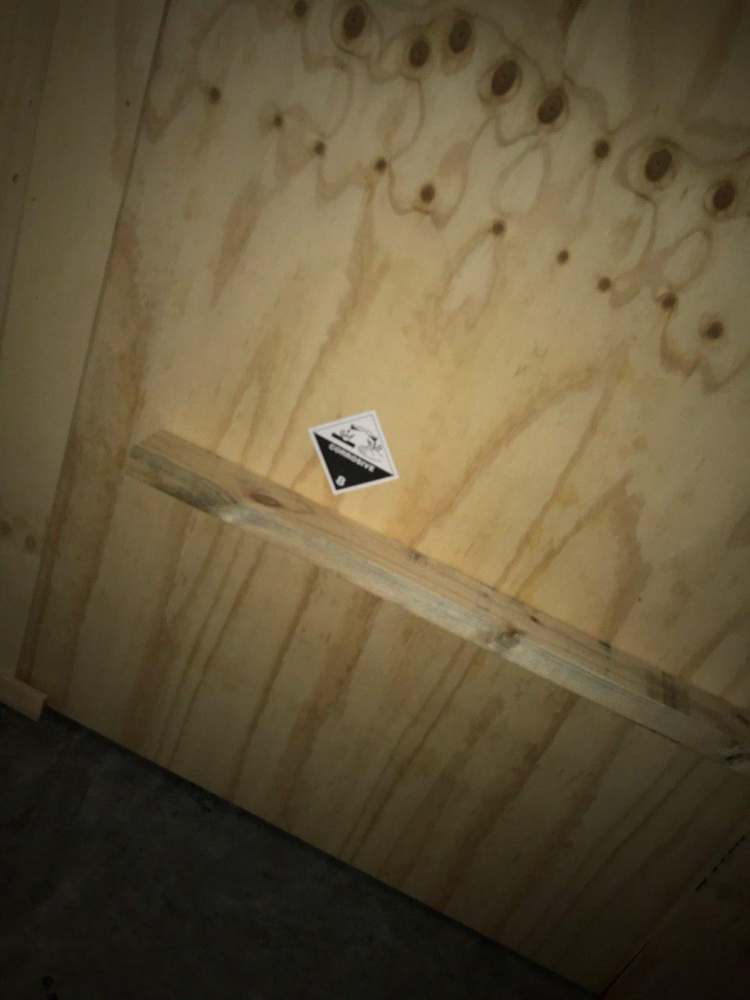Corrosive: (306, 407, 401, 499)
